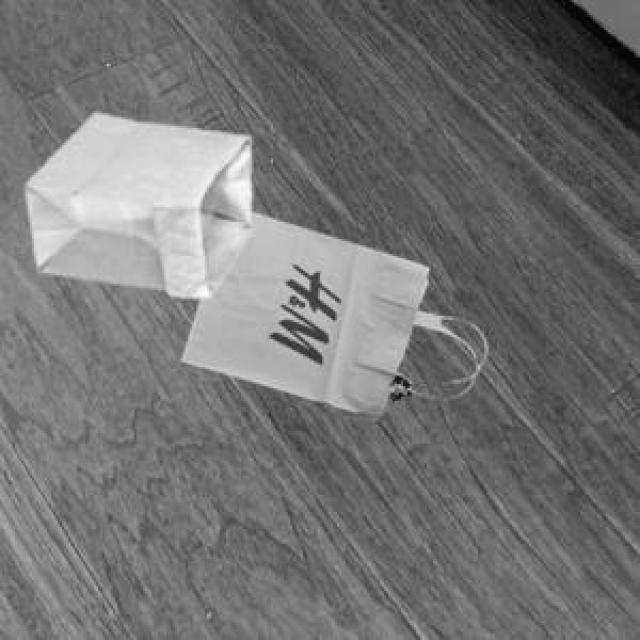paper: (177, 207, 452, 418), (21, 109, 248, 292)
